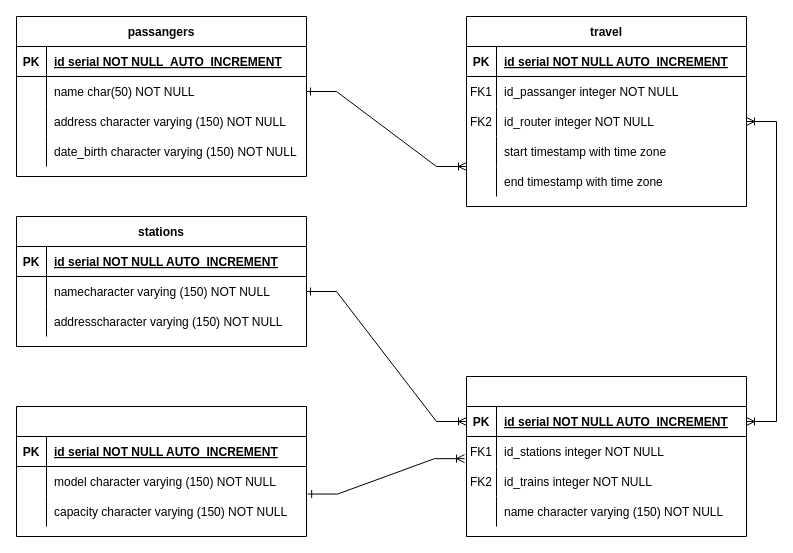
The diagram is 793 pixels wide and 553 high, and some of its shapes have lost their labels. Here are the shapes that lost their labels. From the top down, the box of each, then its label:
(16, 406, 306, 536): trains
(466, 376, 746, 536): router
